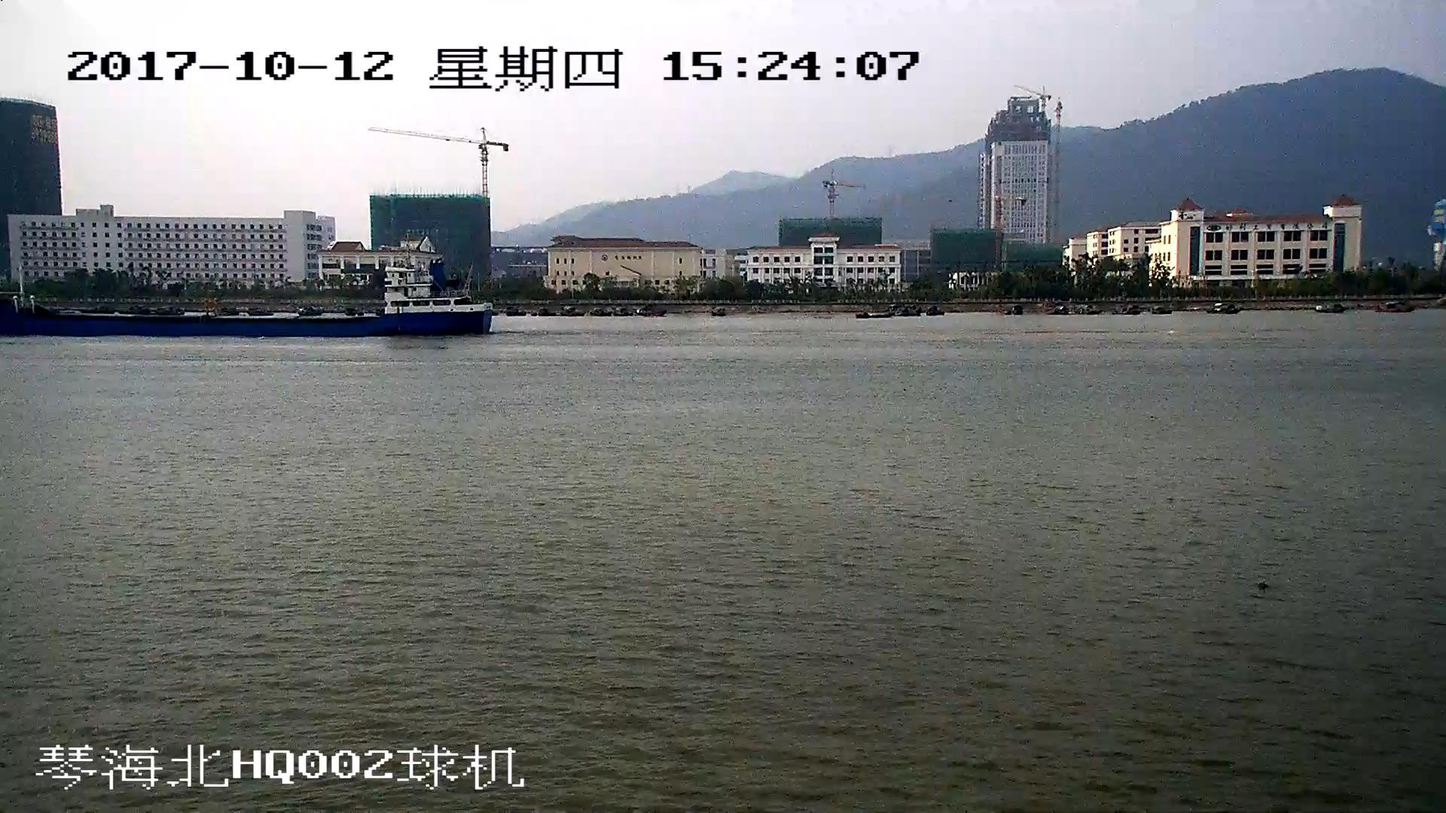general cargo ship: (0, 252, 490, 333)
